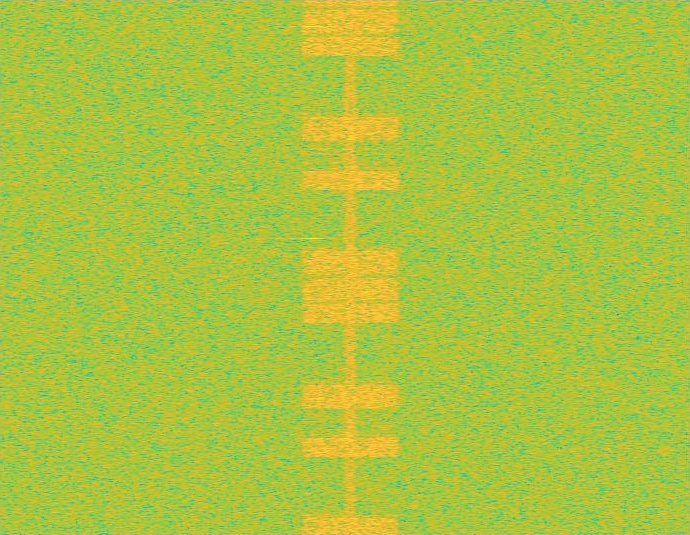DSSS: (344, 0, 358, 534)
LTE: (299, 0, 402, 534)
Radar: (306, 0, 320, 534)
